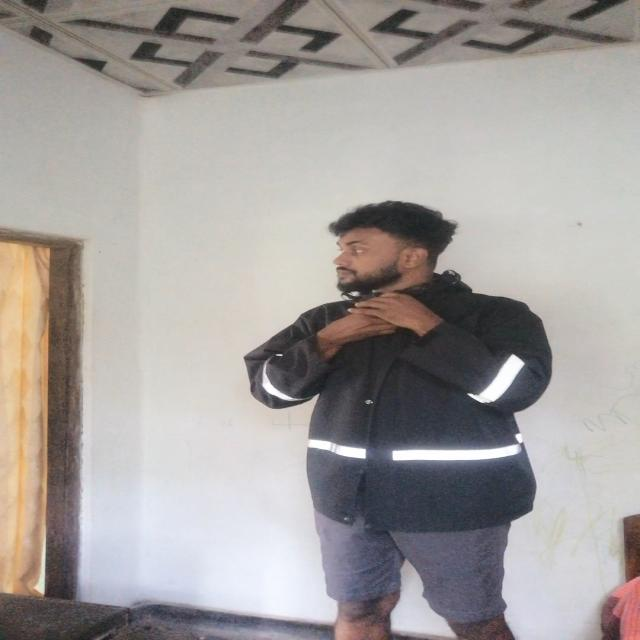Jacket_Wearer: (241, 282, 571, 537)
